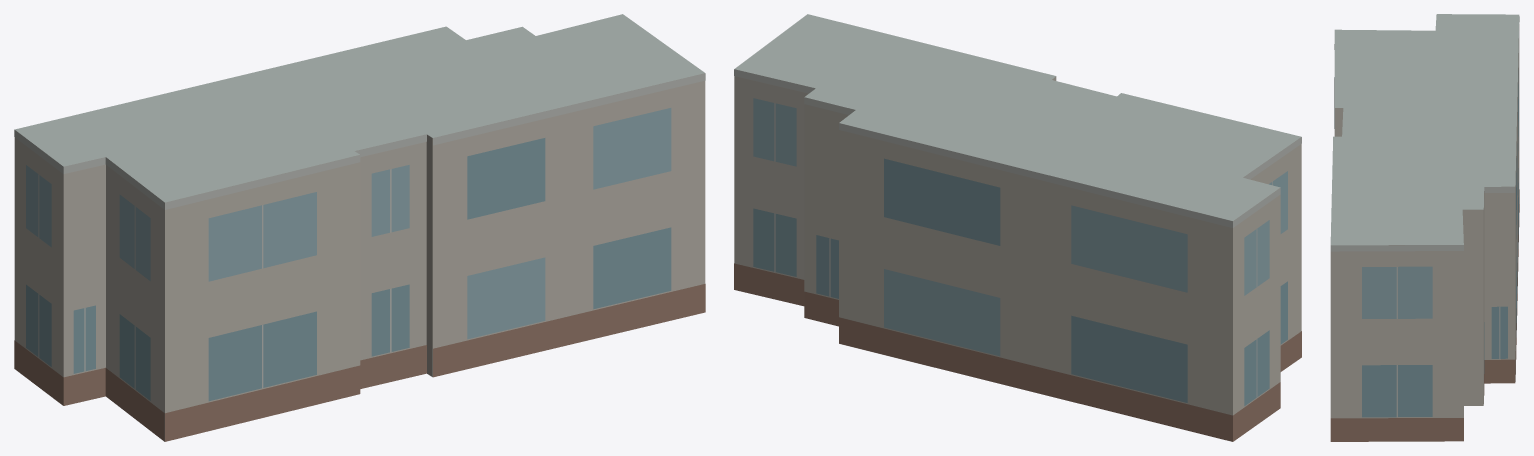
File: survey-upis-32965518.glb
3 renders of one model, left to right at view 1: azimuth 30°, elevation 25°; view 2: azimuth 150°, elevation 25°; view 3: azimuth 270°, elevation 25°, orthographic. The views are drawn at different scales.
Visible parts, largest first — view 1: survey-upis-32965518.tmp; view 2: survey-upis-32965518.tmp; view 3: survey-upis-32965518.tmp.
Boxes of the visible parts, x1,y1,x2,y2 form: survey-upis-32965518.tmp: [14, 14, 705, 441]; survey-upis-32965518.tmp: [734, 14, 1301, 441]; survey-upis-32965518.tmp: [1330, 14, 1519, 441].
Size of the model in its own units: 19.71 by 7.8 by 6.8.
